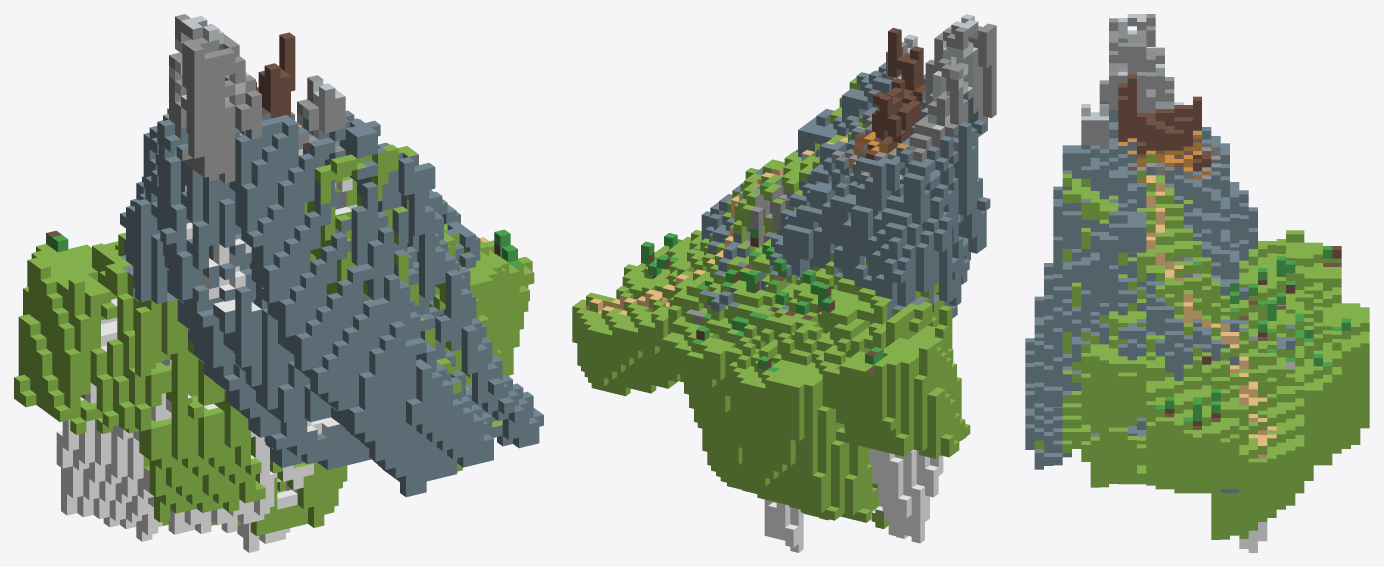
File: Mountaintop by Matthew Burdette - 8mWDJgGcXSH.glb
The picture shows the model from 3 angles, left to right: view 1: azimuth 30°, elevation 25°; view 2: azimuth 150°, elevation 25°; view 3: azimuth 270°, elevation 25°; orthographic projection. The views are drawn at different scales.
Parts seen in each view (by area): view 1: Node_Voxelized; view 2: Node_Voxelized; view 3: Node_Voxelized.
Boxes of the visible parts, <box> form: Node_Voxelized: <box>14,14,543,552</box>; Node_Voxelized: <box>572,14,996,552</box>; Node_Voxelized: <box>1025,14,1369,552</box>.
Size of the model in its own units: 0.6808 by 0.8436 by 0.5476.
